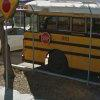Bus: (22, 0, 98, 76)
